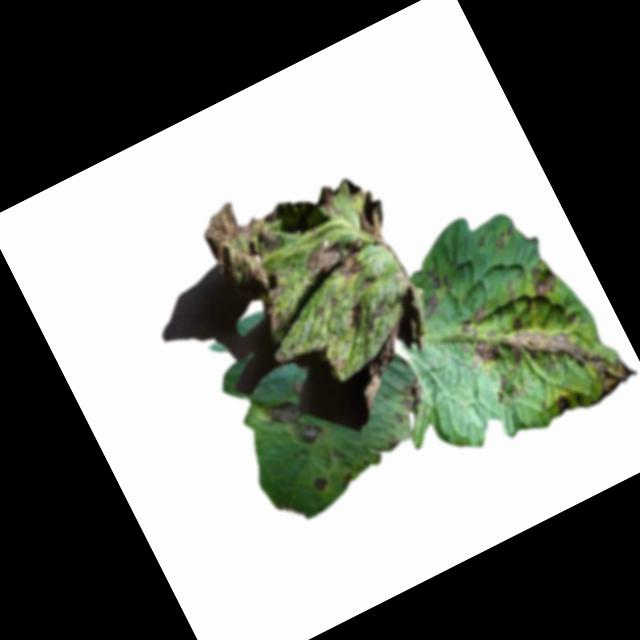Early_blight: (464, 284, 635, 444), (194, 189, 318, 343), (343, 320, 428, 406), (296, 227, 374, 297), (264, 392, 323, 455), (344, 185, 397, 243), (411, 266, 457, 317), (524, 258, 563, 299), (311, 180, 346, 223), (453, 304, 493, 339), (341, 300, 370, 331), (367, 295, 394, 322), (309, 474, 330, 495)
